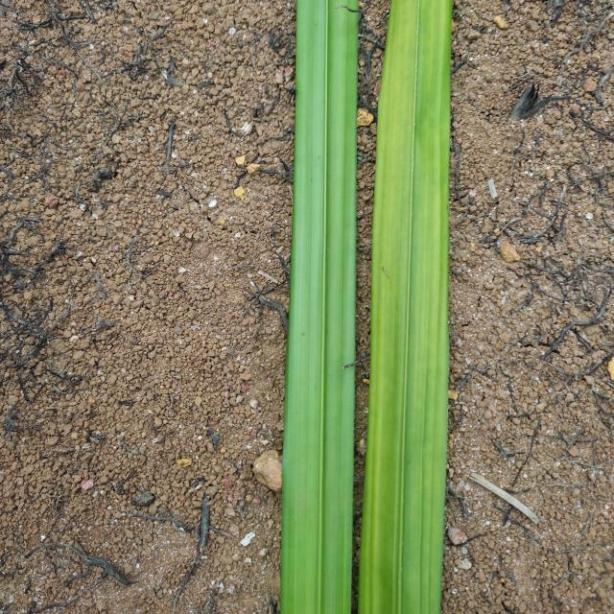nitrogen: (359, 0, 456, 614), (273, 0, 360, 614)
